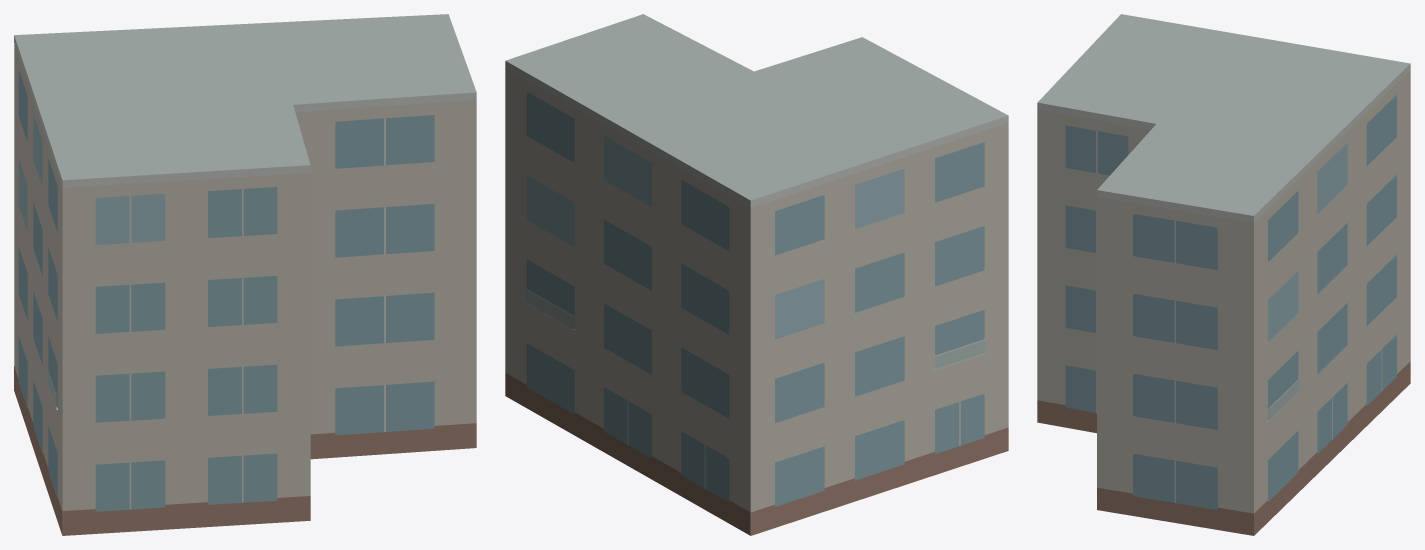
Rendered from survey-upis-32523504.glb.
3 views of the same model, side by side, from view 1: azimuth 30°, elevation 25°; view 2: azimuth 150°, elevation 25°; view 3: azimuth 270°, elevation 25° (orthographic). The views are drawn at different scales.
Parts seen in each view (by area): view 1: survey-upis-32523504.tmp; view 2: survey-upis-32523504.tmp; view 3: survey-upis-32523504.tmp.
Boxes of the visible parts, x1,y1,x2,y2 form: survey-upis-32523504.tmp: [14, 14, 476, 535]; survey-upis-32523504.tmp: [505, 14, 1008, 535]; survey-upis-32523504.tmp: [1037, 14, 1410, 535].
Size of the model in its own units: 15.51 by 11.45 by 12.11.
